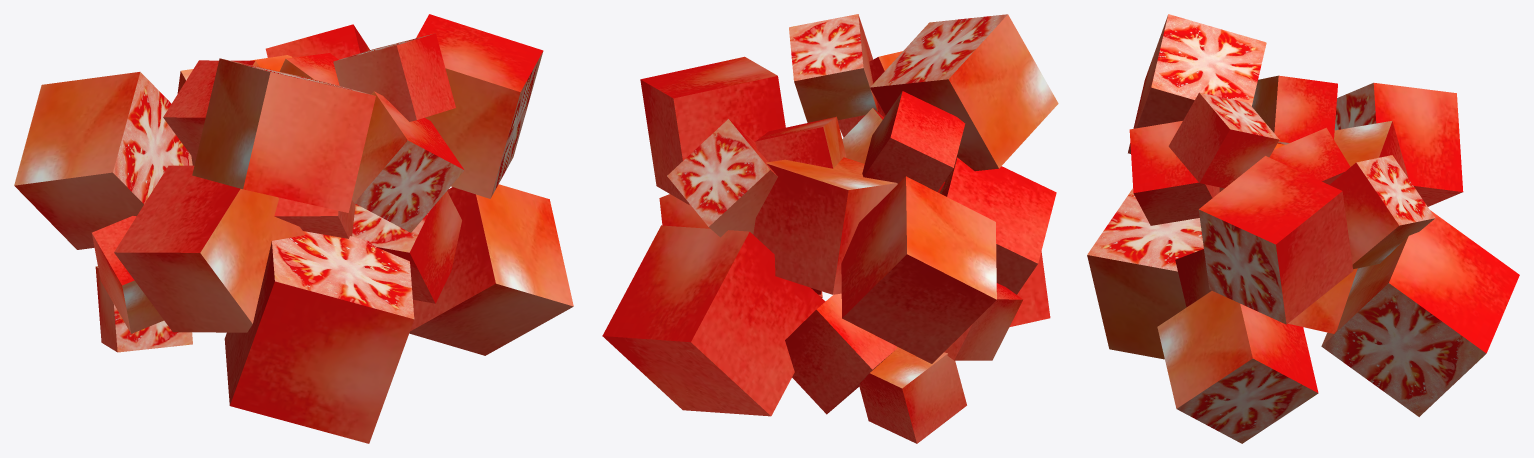
File: tomatoes.fbx
The picture shows the model from 3 angles, left to right: view 1: azimuth 30°, elevation 25°; view 2: azimuth 150°, elevation 25°; view 3: azimuth 270°, elevation 25°; orthographic projection. The views are drawn at different scales.
Parts seen in each view (by area): view 1: Merge; view 2: Merge; view 3: Merge.
Part boxes in pixels (x1,y1,x2,y2): Merge: (14,14,573,443); Merge: (602,14,1058,443); Merge: (1087,14,1519,443).
Bounding box in the file's own units: 42.17 × 33.28 × 40.47.
